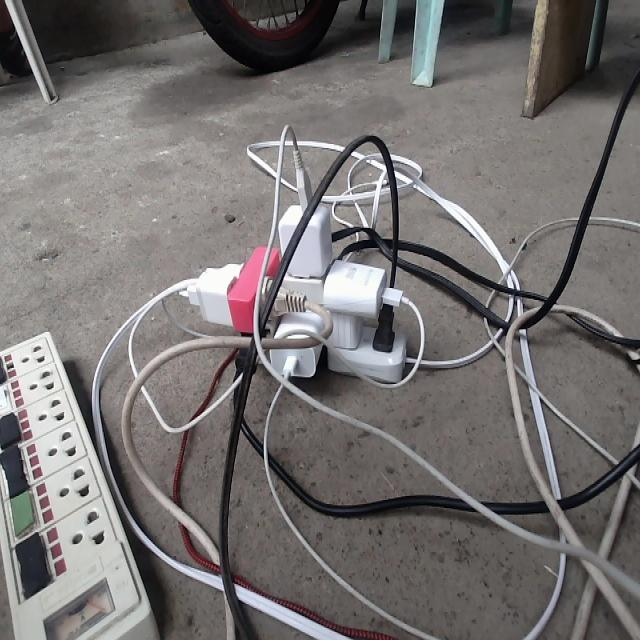-: (182, 120, 424, 384)
